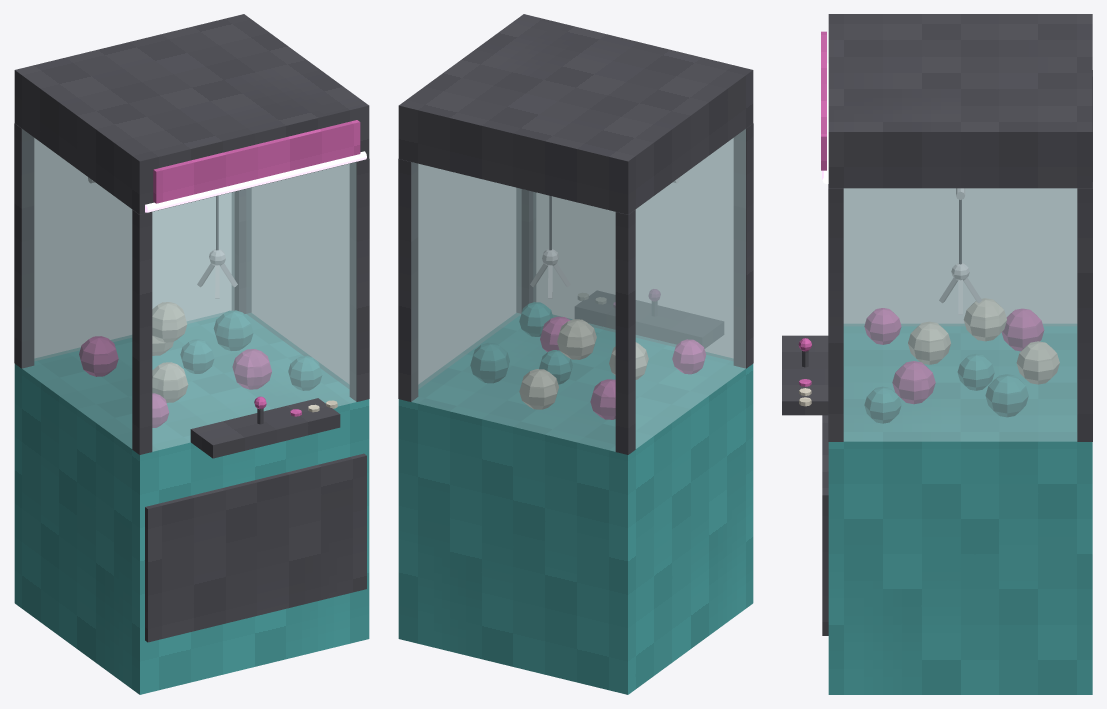
File: three-d-retro-arcade-and-mall-1989-retro-arcade-and-mall-1989-claw-machine-d2b1d603.glb
3 renders of one model, left to right at view 1: azimuth 30°, elevation 25°; view 2: azimuth 150°, elevation 25°; view 3: azimuth 270°, elevation 25°, orthographic. The views are drawn at different scales.
Parts seen in each view (by area): view 1: claw-machine; view 2: claw-machine; view 3: claw-machine.
Part boxes in pixels (left/top/right/bottom): claw-machine: left=14, top=14, right=369, bottom=694; claw-machine: left=398, top=14, right=753, bottom=694; claw-machine: left=782, top=14, right=1092, bottom=694.
Size of the model in its own units: 0.9023 by 2 by 1.
Materials: 7 (4 with a texture image).
